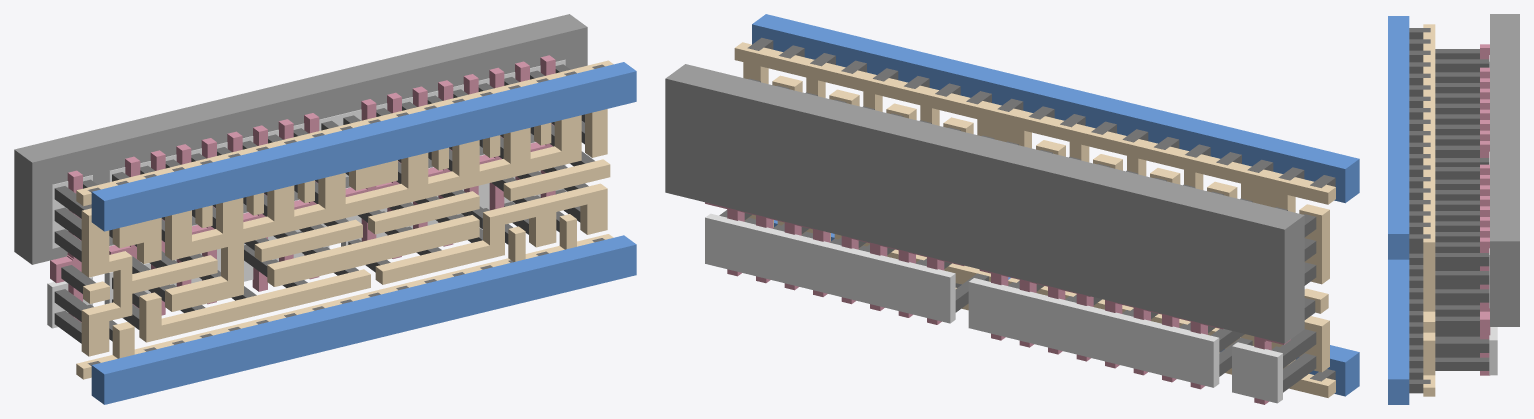
The model's file is sky130_fd_sc_hd__nand4b_4.gds.gltf.
3 renders of one model, left to right at view 1: azimuth 30°, elevation 25°; view 2: azimuth 150°, elevation 25°; view 3: azimuth 270°, elevation 25°, orthographic. The views are drawn at different scales.
Parts seen in each view (by area): view 1: sky130_fd_sc_hd__nand4b_4_li1, sky130_fd_sc_hd__nand4b_4_met1, sky130_fd_sc_hd__nand4b_4_nwell, sky130_fd_sc_hd__nand4b_4_licon, sky130_fd_sc_hd__nand4b_4_poly, sky130_fd_sc_hd__nand4b_4_diff, sky130_fd_sc_hd__nand4b_4_mcon; view 2: sky130_fd_sc_hd__nand4b_4_nwell, sky130_fd_sc_hd__nand4b_4_diff, sky130_fd_sc_hd__nand4b_4_li1, sky130_fd_sc_hd__nand4b_4_met1, sky130_fd_sc_hd__nand4b_4_licon, sky130_fd_sc_hd__nand4b_4_poly, sky130_fd_sc_hd__nand4b_4_mcon; view 3: sky130_fd_sc_hd__nand4b_4_licon, sky130_fd_sc_hd__nand4b_4_nwell, sky130_fd_sc_hd__nand4b_4_met1, sky130_fd_sc_hd__nand4b_4_mcon, sky130_fd_sc_hd__nand4b_4_li1, sky130_fd_sc_hd__nand4b_4_poly, sky130_fd_sc_hd__nand4b_4_diff.
Boxes of the visible parts, bbox=[...] form: sky130_fd_sc_hd__nand4b_4_li1: bbox=[76, 60, 613, 379]; sky130_fd_sc_hd__nand4b_4_met1: bbox=[91, 62, 636, 404]; sky130_fd_sc_hd__nand4b_4_nwell: bbox=[14, 14, 587, 264]; sky130_fd_sc_hd__nand4b_4_licon: bbox=[54, 64, 594, 343]; sky130_fd_sc_hd__nand4b_4_poly: bbox=[50, 55, 555, 322]; sky130_fd_sc_hd__nand4b_4_diff: bbox=[47, 59, 565, 328]; sky130_fd_sc_hd__nand4b_4_mcon: bbox=[88, 64, 604, 365]; sky130_fd_sc_hd__nand4b_4_nwell: bbox=[665, 64, 1304, 343]; sky130_fd_sc_hd__nand4b_4_diff: bbox=[705, 213, 1282, 403]; sky130_fd_sc_hd__nand4b_4_li1: bbox=[734, 42, 1335, 397]; sky130_fd_sc_hd__nand4b_4_met1: bbox=[752, 14, 1359, 396]; sky130_fd_sc_hd__nand4b_4_licon: bbox=[719, 78, 1316, 392]; sky130_fd_sc_hd__nand4b_4_poly: bbox=[705, 202, 1290, 404]; sky130_fd_sc_hd__nand4b_4_mcon: bbox=[747, 37, 1335, 381]; sky130_fd_sc_hd__nand4b_4_licon: bbox=[1435, 49, 1489, 370]; sky130_fd_sc_hd__nand4b_4_nwell: bbox=[1490, 14, 1519, 326]; sky130_fd_sc_hd__nand4b_4_met1: bbox=[1388, 16, 1409, 404]; sky130_fd_sc_hd__nand4b_4_mcon: bbox=[1409, 28, 1430, 393]; sky130_fd_sc_hd__nand4b_4_li1: bbox=[1423, 24, 1435, 396]; sky130_fd_sc_hd__nand4b_4_poly: bbox=[1480, 44, 1490, 375]; sky130_fd_sc_hd__nand4b_4_diff: bbox=[1489, 55, 1497, 375].
Bounding box in the file's own units: 9.12 × 3.2 × 2.24.
